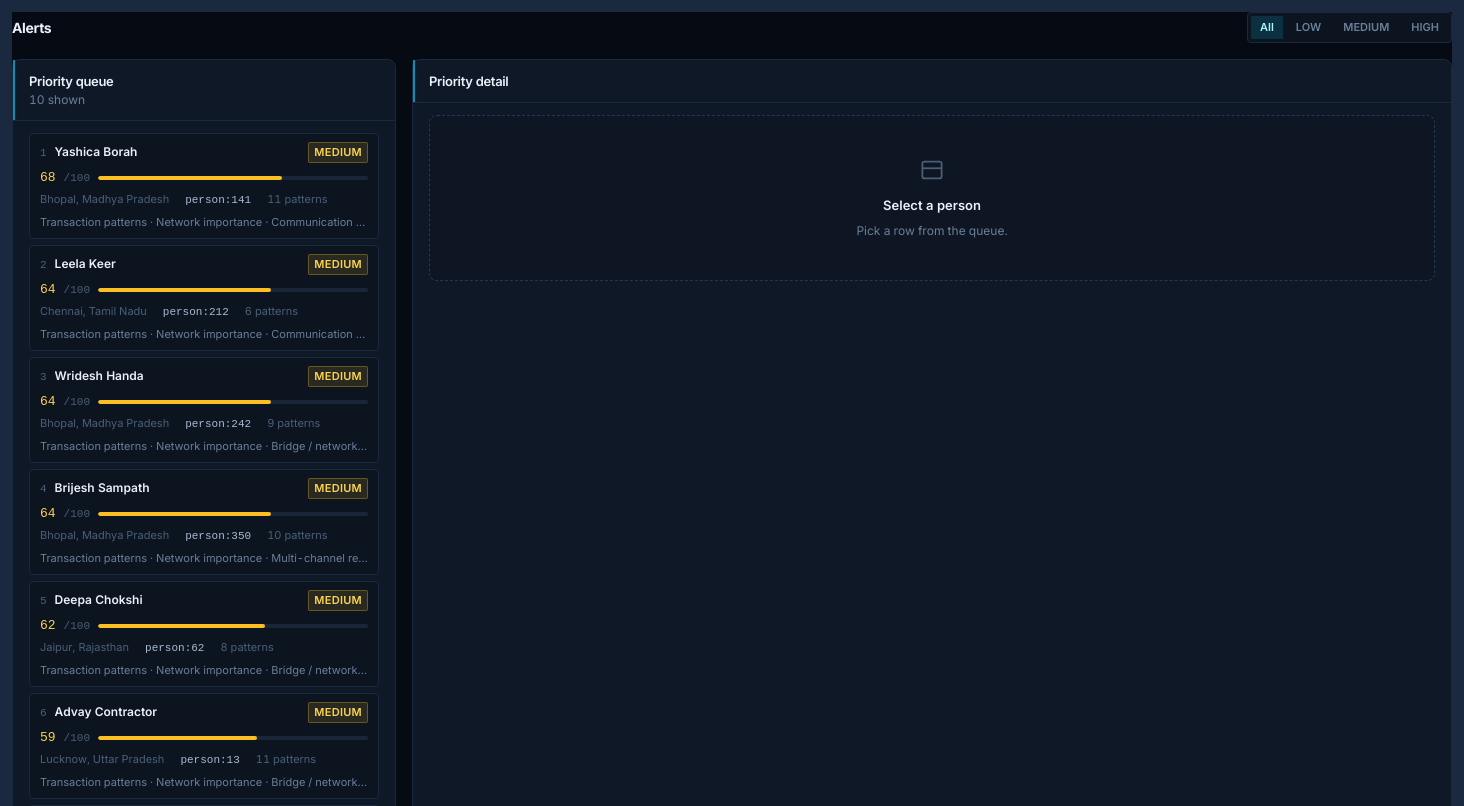
Scenario: AlertsPage — the priority queue › filters by band at the backend and re-opens on the new top row
Expected: the button with test id "queue-row" that starts with "Yashica Borah" is shown, x1=29 y1=133 x2=379 y2=239
Click the radio button labelled "LOW". click: (1308, 27)
box: x1=1286 y1=15 x2=1331 y2=40
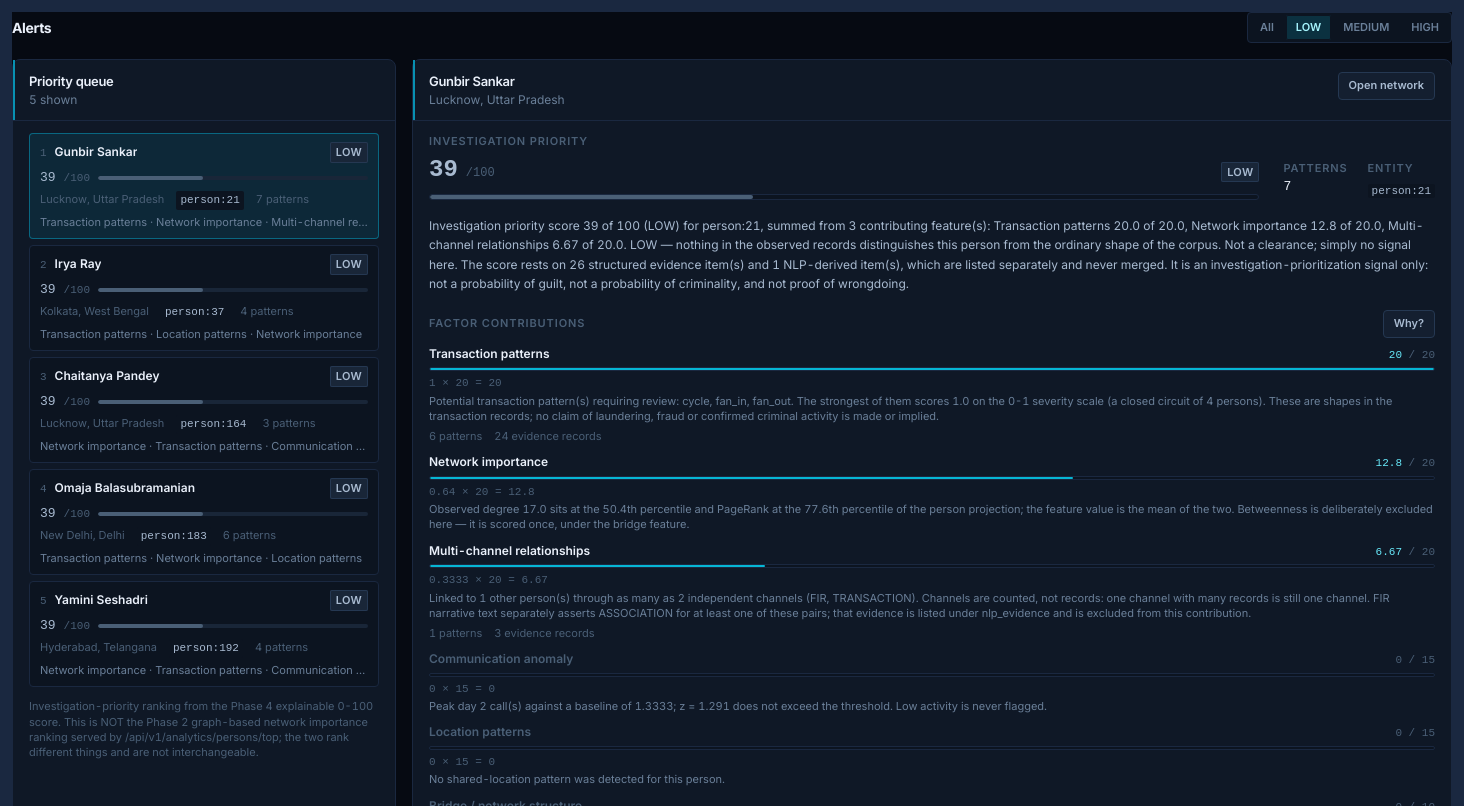
Result: the number of buttons with test id "queue-row" is 5 at x1=29 y1=133 x2=379 y2=239; x1=29 y1=245 x2=379 y2=351; x1=29 y1=357 x2=379 y2=463; x1=29 y1=469 x2=379 y2=575; x1=29 y1=581 x2=379 y2=687
Result: the 1st text "LOW" is shown at x1=330 y1=142 x2=368 y2=163
Result: the 3rd text "LOW" is shown at x1=330 y1=254 x2=368 y2=275
